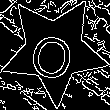O_N: (28, 20, 81, 80)
